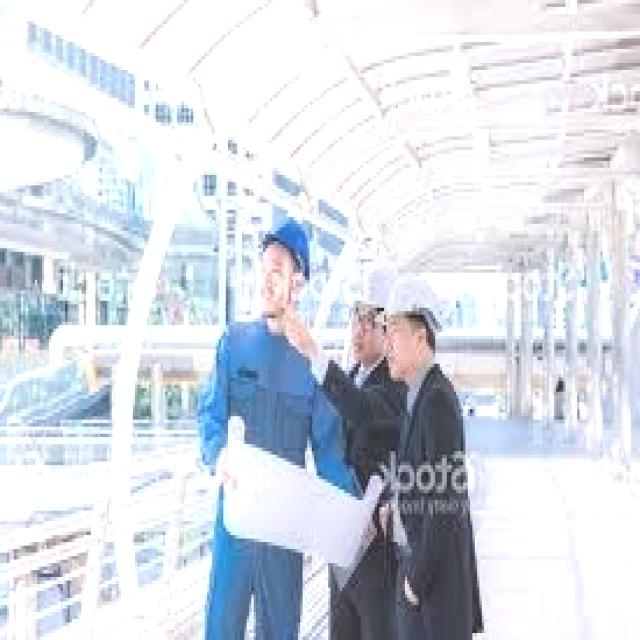no_vest: (192, 320, 318, 532), (380, 362, 478, 560)
